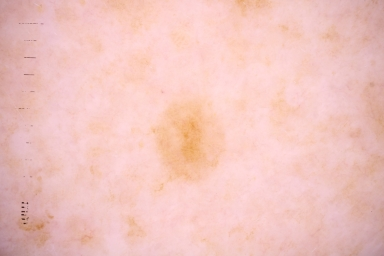melanoma: (153, 101, 222, 182)
